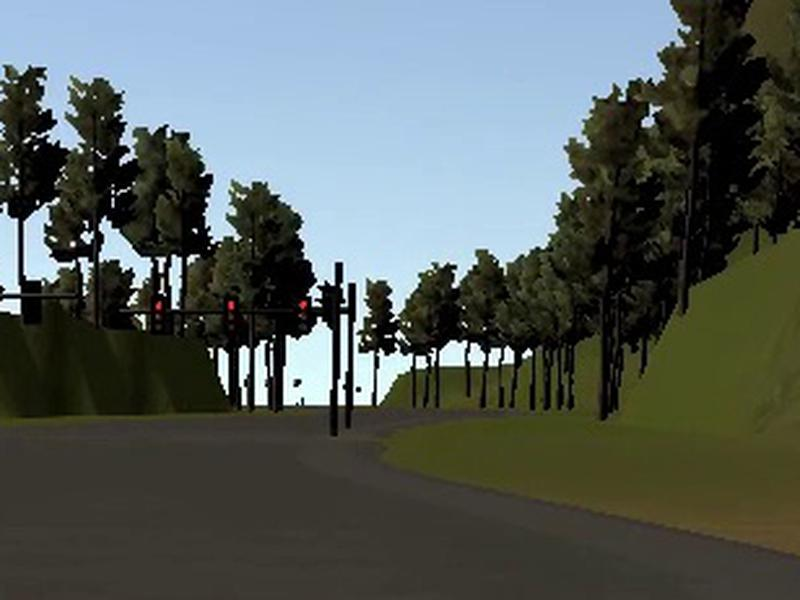Red: (221, 295, 240, 334), (150, 296, 167, 336), (294, 297, 311, 334)
